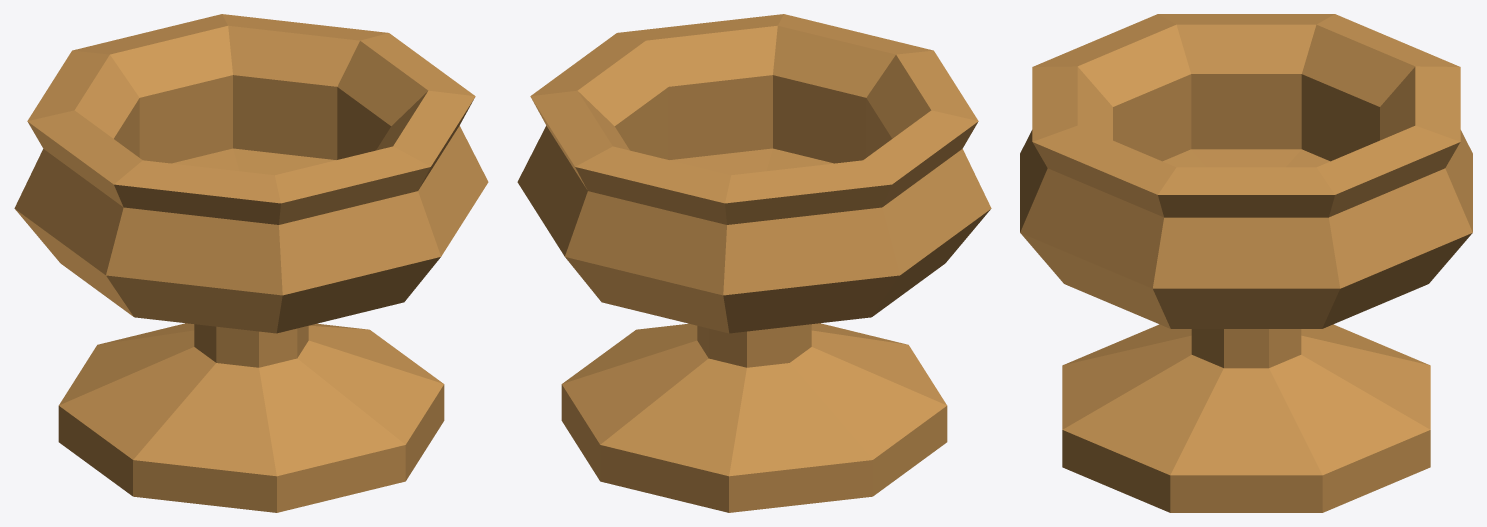
The model's file is SM_Prop_Gold_Bowl_02.glb.
3 renders of one model, left to right at view 1: azimuth 30°, elevation 25°; view 2: azimuth 150°, elevation 25°; view 3: azimuth 270°, elevation 25°, orthographic. The views are drawn at different scales.
Parts seen in each view (by area): view 1: SM_Prop_Gold_Bowl_02; view 2: SM_Prop_Gold_Bowl_02; view 3: SM_Prop_Gold_Bowl_02.
Boxes of the visible parts, x1,y1,x2,y2 form: SM_Prop_Gold_Bowl_02: (14, 14, 488, 512); SM_Prop_Gold_Bowl_02: (517, 14, 991, 512); SM_Prop_Gold_Bowl_02: (1020, 14, 1472, 512).
Bounding box in the file's own units: 0.3583 × 0.2962 × 0.3583.
Materials: 1 (1 with a texture image).
